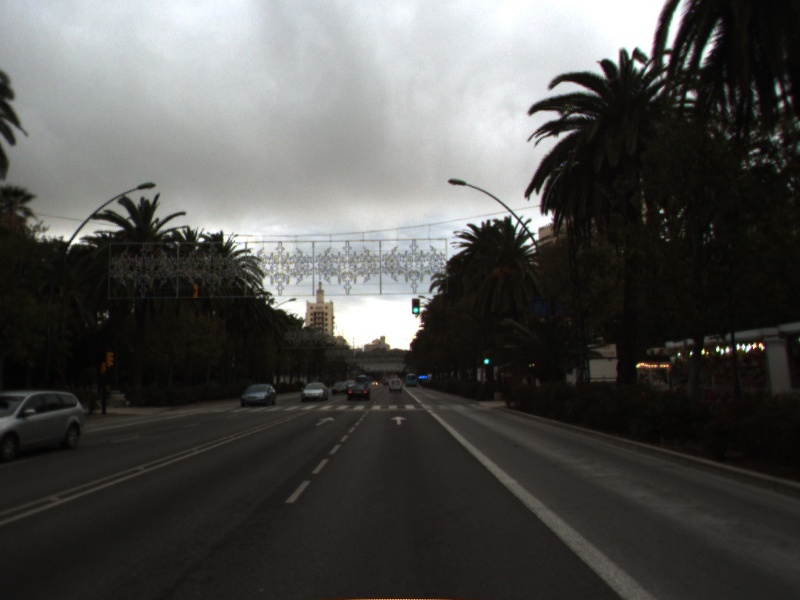STRAIGHT: (313, 415, 338, 428), (389, 414, 409, 427)
